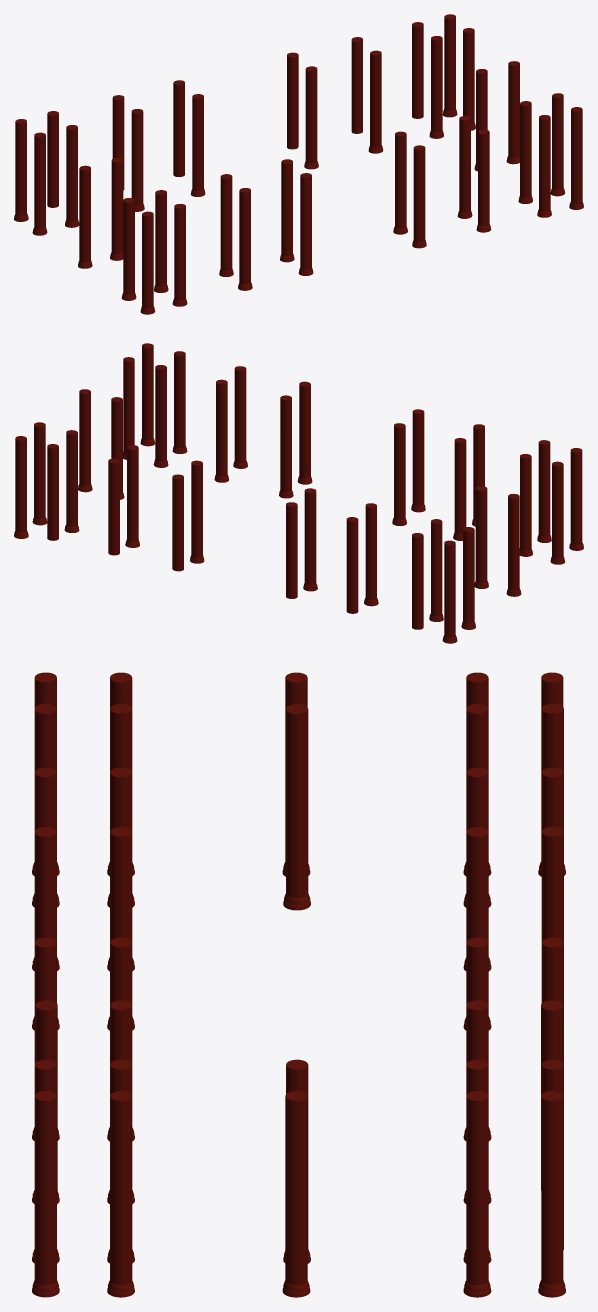
3 renders of one model, top to bottom at view 1: azimuth 30°, elevation 25°; view 2: azimuth 150°, elevation 25°; view 3: azimuth 270°, elevation 25°, orthographic. The views are drawn at different scales.
Visible parts, largest first — view 1: 组005; view 2: 组005; view 3: 组005.
Part boxes in pixels (<box>): 组005: <box>14,14,583,314</box>; 组005: <box>14,343,583,643</box>; 组005: <box>32,672,565,1297</box>.
Size of the model in its own units: 64542 by 13637 by 33800.
